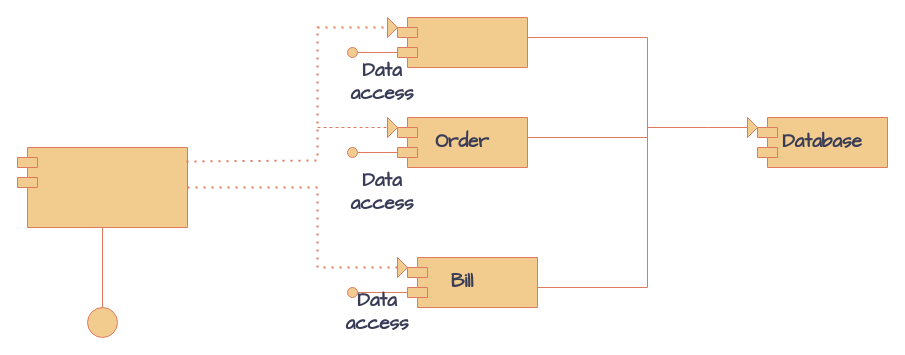
Image size: 905x355. Some labels were removed from this diagram. Here are the shapes that lost their labels. From the top down, the centre of each, then its label:
At (462,42): "Employee".
At (102,187): "Coffee Shop Management System".
